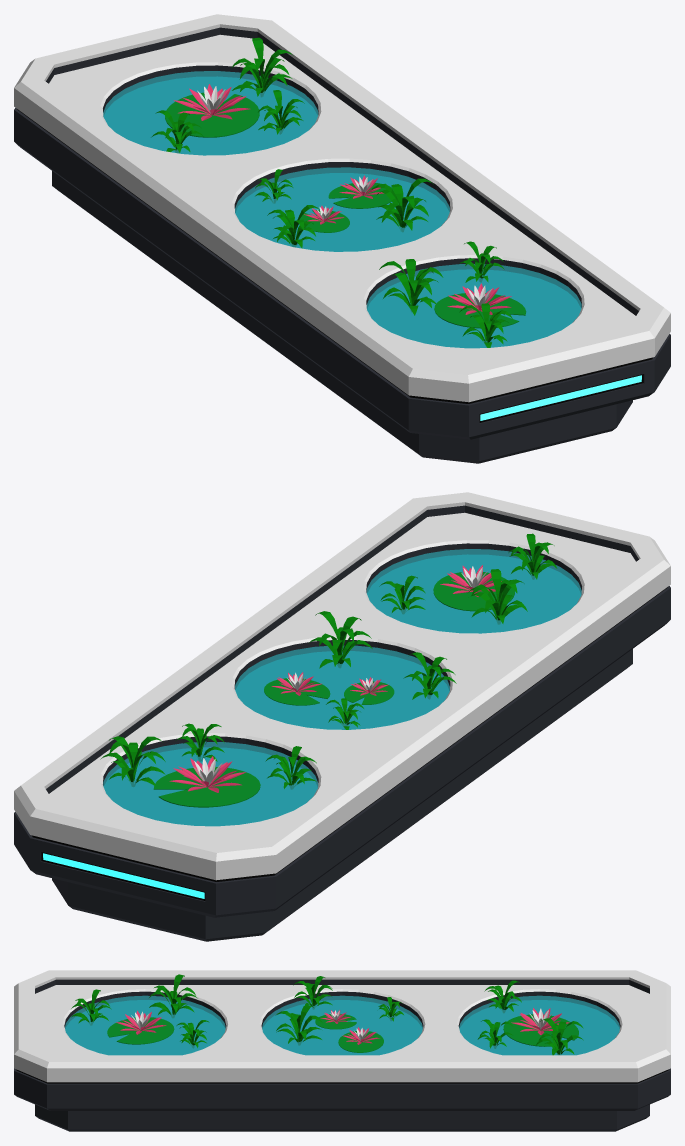
File: SM_Water_Garden_Planter.fbx
3 renders of one model, top to bottom at view 1: azimuth 30°, elevation 25°; view 2: azimuth 150°, elevation 25°; view 3: azimuth 270°, elevation 25°, orthographic. The views are drawn at different scales.
Visible parts, largest first — view 1: SM_Water_Garden_Planter; view 2: SM_Water_Garden_Planter; view 3: SM_Water_Garden_Planter.
Boxes of the visible parts, bbox=[...] form: SM_Water_Garden_Planter: bbox=[14, 14, 670, 463]; SM_Water_Garden_Planter: bbox=[14, 492, 670, 941]; SM_Water_Garden_Planter: bbox=[14, 970, 670, 1131].
Bounding box in the file's own units: 45.98 × 21.69 × 133.
